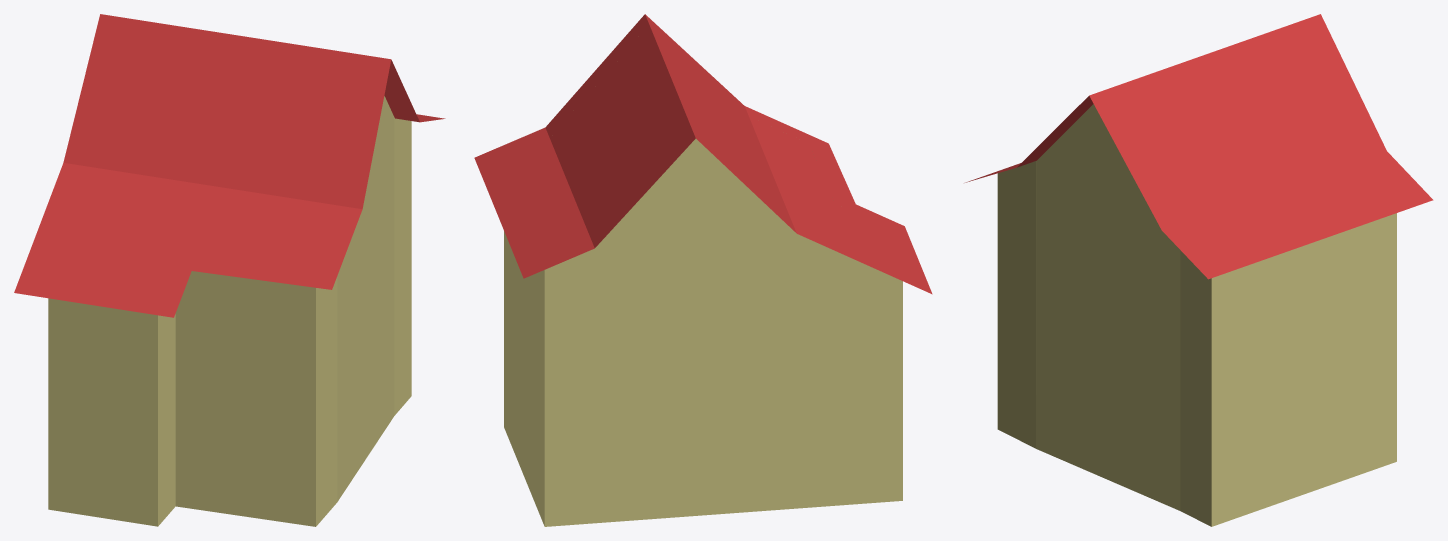
The picture shows the model from 3 angles, left to right: view 1: azimuth 30°, elevation 25°; view 2: azimuth 150°, elevation 25°; view 3: azimuth 270°, elevation 25°; orthographic projection. The views are drawn at different scales.
Size of the model in its own units: 9.79 by 9.08 by 8.32.
